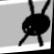not correct: (17, 0, 54, 50)
